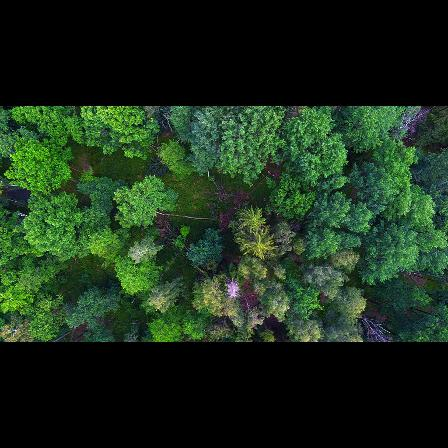Dead: (354, 312, 394, 342), (395, 108, 434, 133), (227, 277, 242, 304)
